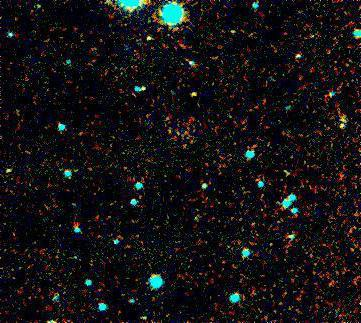star: (179, 76, 209, 106)
